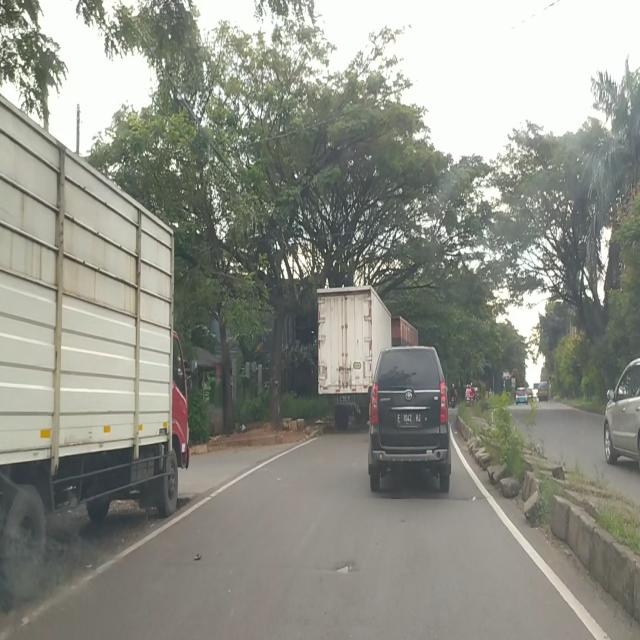Sewer Cover: (368, 488, 490, 502)
